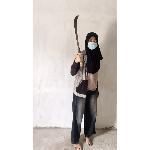Golok: (64, 14, 92, 68)
